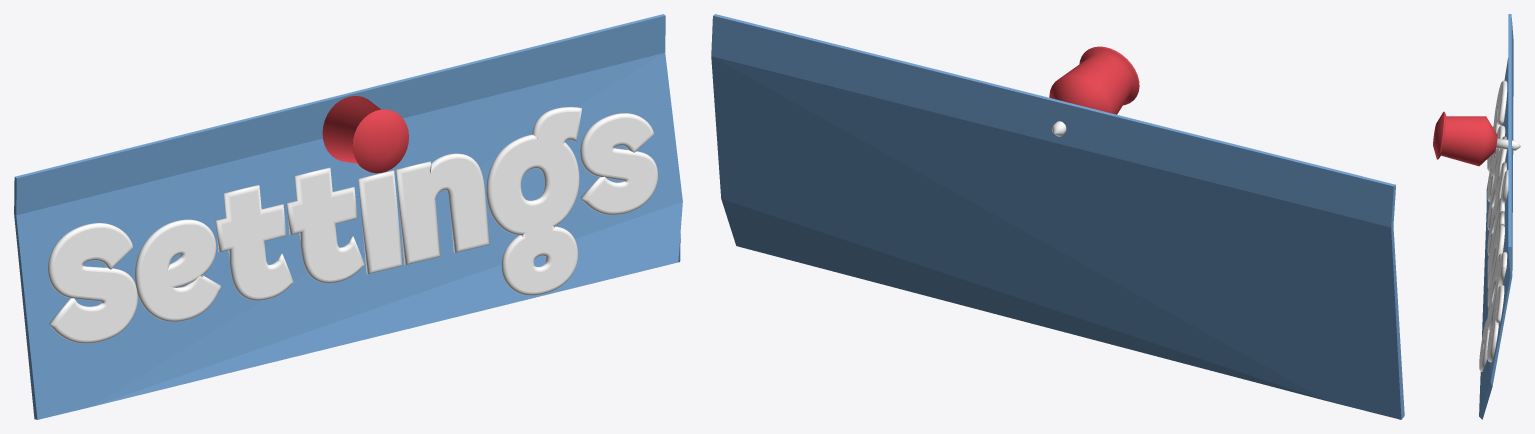
File: settings_button.fbx
The picture shows the model from 3 angles, left to right: view 1: azimuth 30°, elevation 25°; view 2: azimuth 150°, elevation 25°; view 3: azimuth 270°, elevation 25°; orthographic projection. The views are drawn at different scales.
Parts seen in each view (by area): view 1: SM_Prop_Note_04.002, Text.002, pin.002; view 2: SM_Prop_Note_04.002, pin.002; view 3: Text.002, SM_Prop_Note_04.002, pin.002.
Boxes of the visible parts, box(x1,y1,x2,y2) form: SM_Prop_Note_04.002: box(14, 14, 682, 419); Text.002: box(48, 107, 657, 343); pin.002: box(322, 96, 408, 173); SM_Prop_Note_04.002: box(711, 14, 1404, 419); pin.002: box(1049, 46, 1139, 136); Text.002: box(1479, 80, 1508, 371); SM_Prop_Note_04.002: box(1479, 14, 1513, 419); pin.002: box(1433, 111, 1520, 166).
Bounding box in the file's own units: 336 × 125 × 52.33.
Materials: 3 (1 with a texture image).
